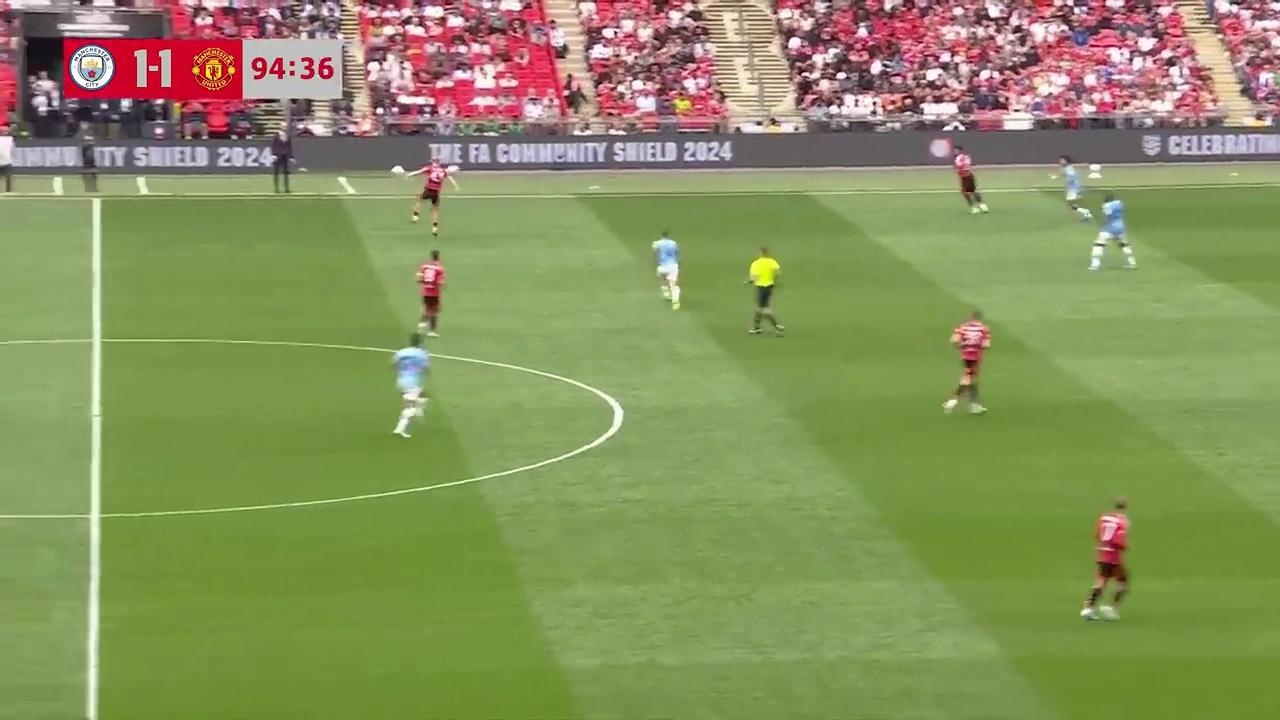ball: (392, 162, 403, 181)
player: (1079, 498, 1131, 622), (940, 310, 991, 417), (389, 332, 430, 437), (1089, 195, 1137, 271), (410, 158, 454, 230), (415, 249, 446, 336), (1052, 157, 1091, 218), (651, 230, 681, 309), (954, 153, 988, 214)
referee: (744, 246, 786, 336)
